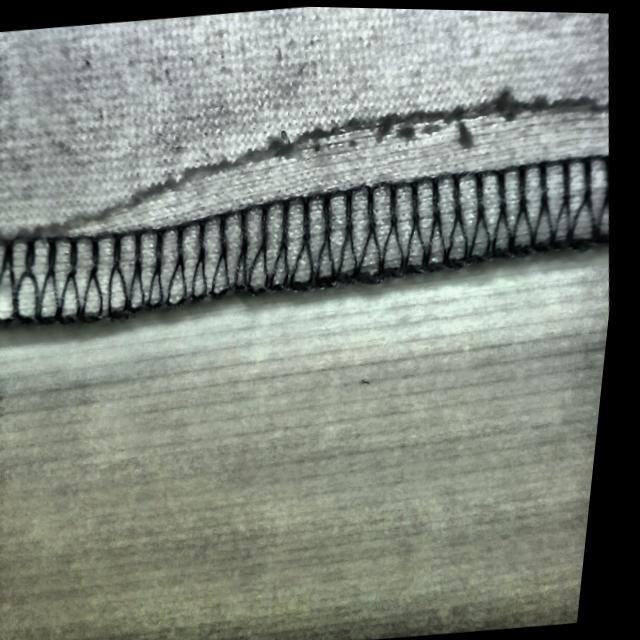seam: (28, 37, 626, 348)
